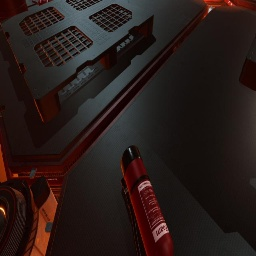FireExtinguisher ]: (120, 145, 173, 256), (32, 0, 54, 13), (38, 5, 39, 6)
